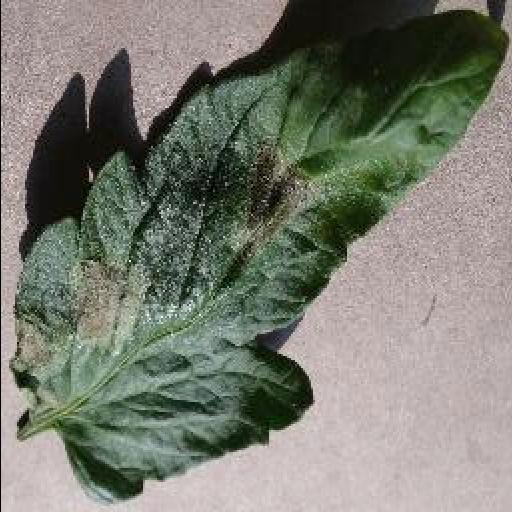disease_tomato: (9, 10, 511, 504)
